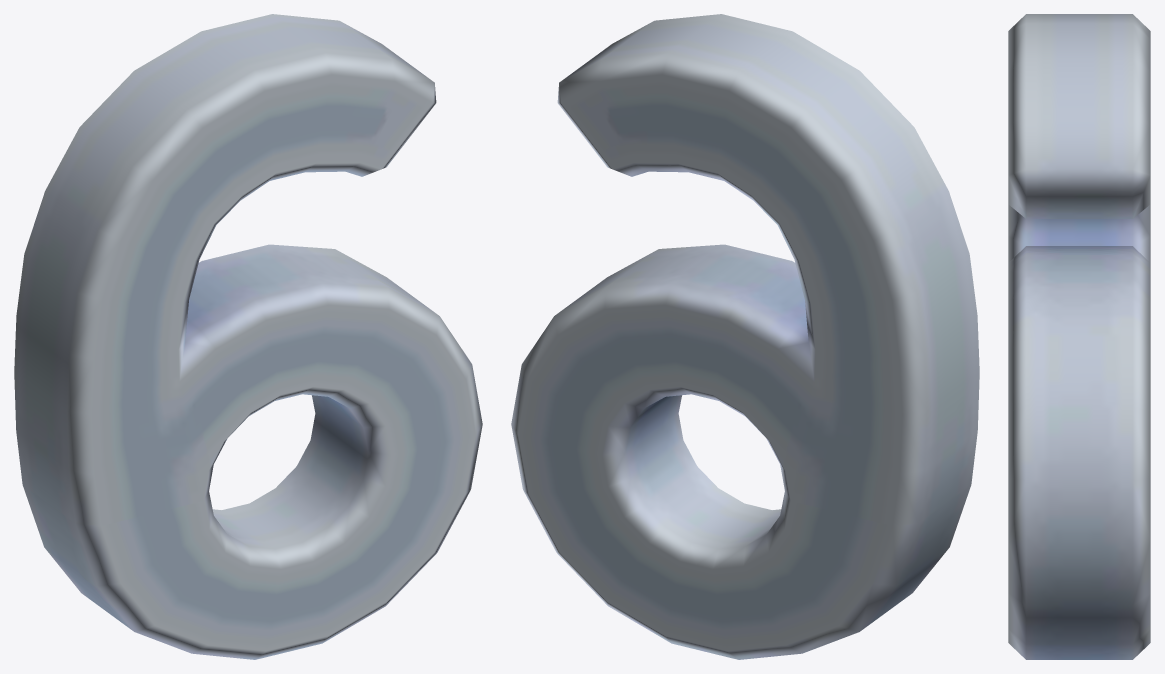
The model's file is rmk_nmb_6.dae.
3 views of the same model, side by side, from view 1: azimuth 30°, elevation 25°; view 2: azimuth 150°, elevation 25°; view 3: azimuth 270°, elevation 25° (orthographic).
Parts seen in each view (by area): view 1: rmk_nmb_6; view 2: rmk_nmb_6; view 3: rmk_nmb_6.
Boxes of the visible parts, box(x1,y1,x2,y2) form: rmk_nmb_6: box(14, 14, 482, 659); rmk_nmb_6: box(511, 14, 979, 659); rmk_nmb_6: box(1008, 14, 1150, 659).
Bounding box in the file's own units: 22.06 × 29.94 × 6.5.
1 material, 1 textured.
